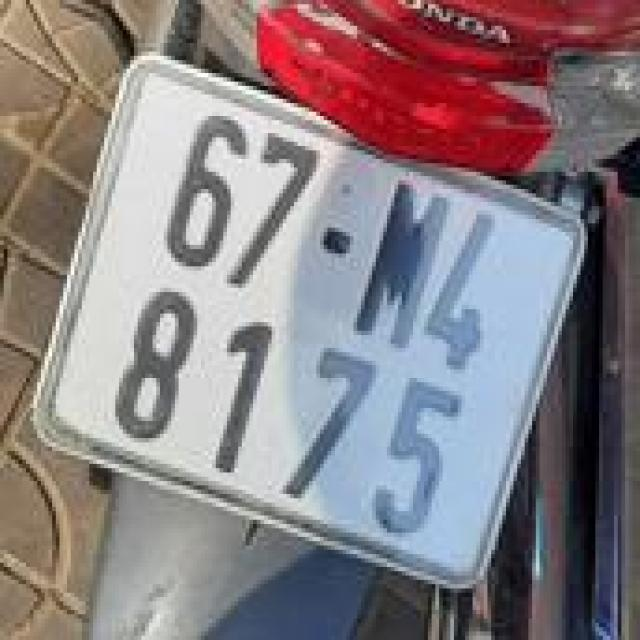1: (191, 304, 296, 487)
4: (413, 194, 526, 385)
5: (361, 362, 481, 551)
6: (151, 95, 264, 284)
7: (274, 331, 395, 521), (222, 118, 338, 306)
8: (99, 273, 222, 458)
M: (348, 168, 468, 359)
